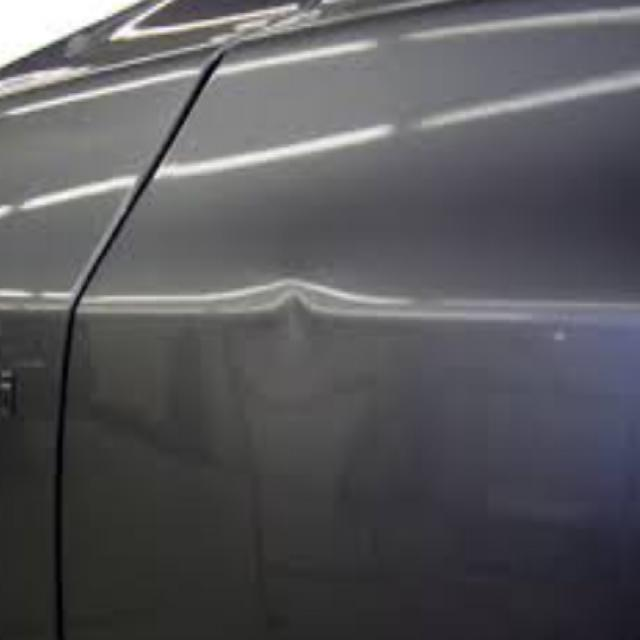dents: (264, 290, 360, 379)
